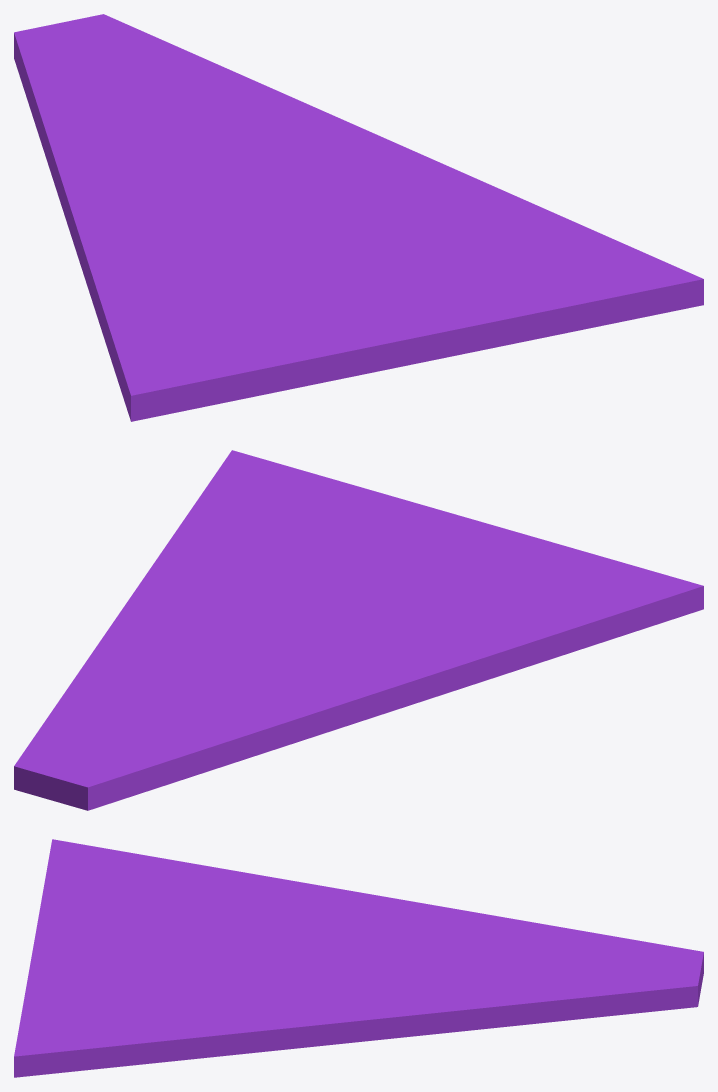
Rendered from StairsStep_2.fbx.
3 views of the same model, one above another, from view 1: azimuth 30°, elevation 25°; view 2: azimuth 150°, elevation 25°; view 3: azimuth 270°, elevation 25° (orthographic). The views are drawn at different scales.
Visible parts, largest first — view 1: StairsStep_2; view 2: StairsStep_2; view 3: StairsStep_2.
Boxes of the visible parts, left/top/right/bottom form: StairsStep_2: left=14, top=14, right=703, bottom=421; StairsStep_2: left=14, top=450, right=703, bottom=810; StairsStep_2: left=14, top=839, right=703, bottom=1077.
Bounding box in the file's own units: 396 × 17.94 × 531.
